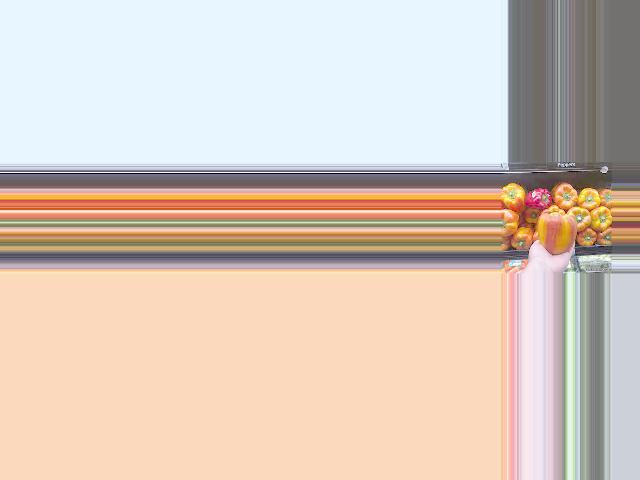bell_pepper: (508, 226, 535, 247)
